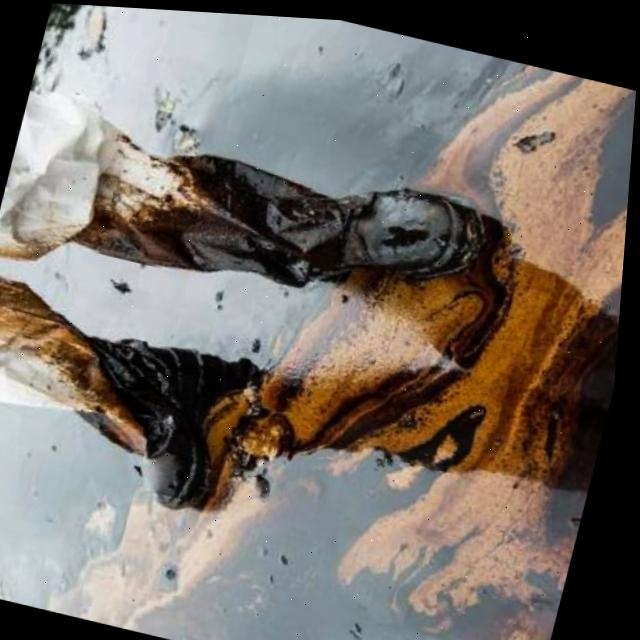spillage: (111, 63, 637, 628)
